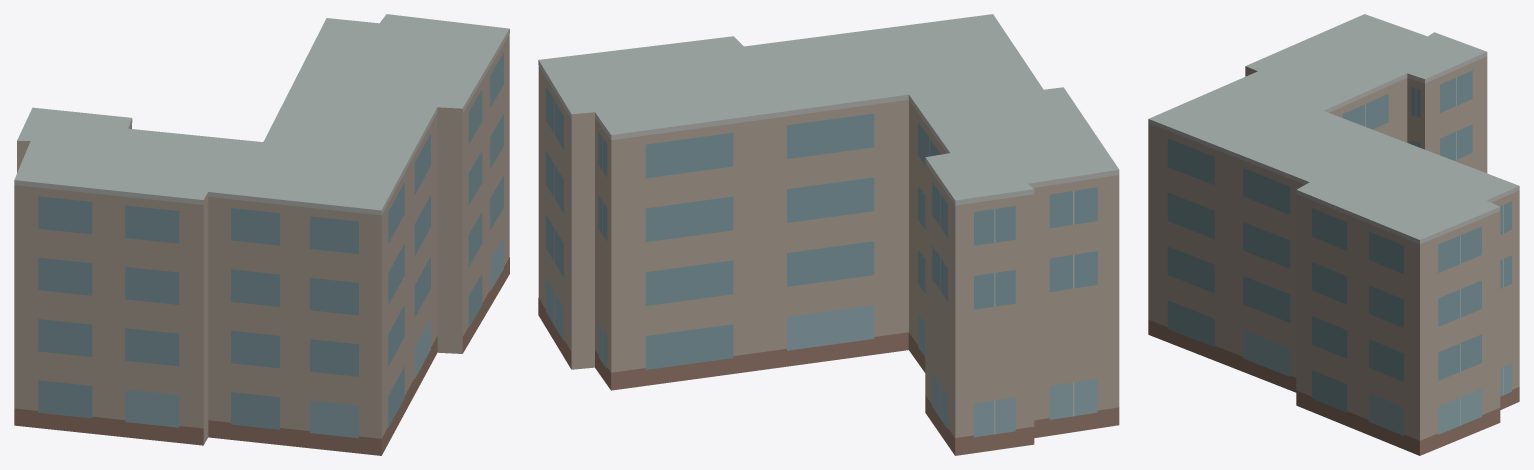
File: survey-upis-32897269.glb
The picture shows the model from 3 angles, left to right: view 1: azimuth 30°, elevation 25°; view 2: azimuth 150°, elevation 25°; view 3: azimuth 270°, elevation 25°; orthographic projection. The views are drawn at different scales.
Visible parts, largest first — view 1: survey-upis-32897269.tmp; view 2: survey-upis-32897269.tmp; view 3: survey-upis-32897269.tmp.
Part boxes in pixels (<box>): survey-upis-32897269.tmp: <box>14,14,509,455</box>; survey-upis-32897269.tmp: <box>538,14,1119,455</box>; survey-upis-32897269.tmp: <box>1148,14,1519,455</box>.
Size of the model in its own units: 27.19 by 12.1 by 18.86.
